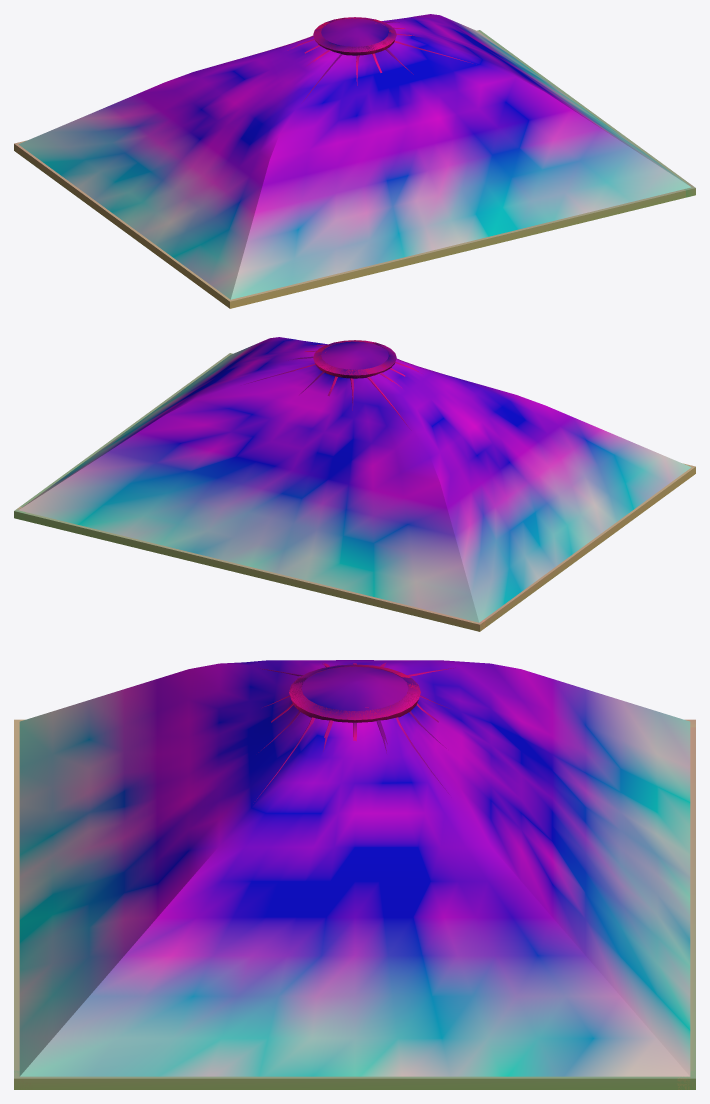
The model's file is palace_cove_dome.glb.
The picture shows the model from 3 angles, top to bottom: view 1: azimuth 30°, elevation 25°; view 2: azimuth 150°, elevation 25°; view 3: azimuth 270°, elevation 25°; orthographic projection. The views are drawn at different scales.
Visible parts, largest first — view 1: cove_shell_out, cove_perimeter_cornice, cove_eye, cove_oculus, cove_oculus_in; view 2: cove_shell_out, cove_perimeter_cornice, cove_eye, cove_oculus, cove_oculus_in; view 3: cove_shell_out, cove_perimeter_cornice, cove_eye, cove_oculus, cove_oculus_in.
Boxes of the visible parts, <box> form: cove_shell_out: <box>18,14,690,299</box>; cove_perimeter_cornice: <box>14,30,695,308</box>; cove_eye: <box>321,18,388,46</box>; cove_oculus: <box>313,17,396,55</box>; cove_oculus_in: <box>313,17,396,55</box>; cove_shell_out: <box>19,337,691,622</box>; cove_perimeter_cornice: <box>14,353,695,631</box>; cove_eye: <box>321,341,388,369</box>; cove_oculus: <box>313,340,396,378</box>; cove_oculus_in: <box>313,340,395,378</box>; cove_shell_out: <box>19,660,690,1076</box>; cove_perimeter_cornice: <box>14,719,695,1089</box>; cove_eye: <box>301,666,408,710</box>; cove_oculus: <box>289,664,420,722</box>; cove_oculus_in: <box>289,664,420,722</box>.
Size of the model in its own units: 20.32 by 6.04 by 16.32.
